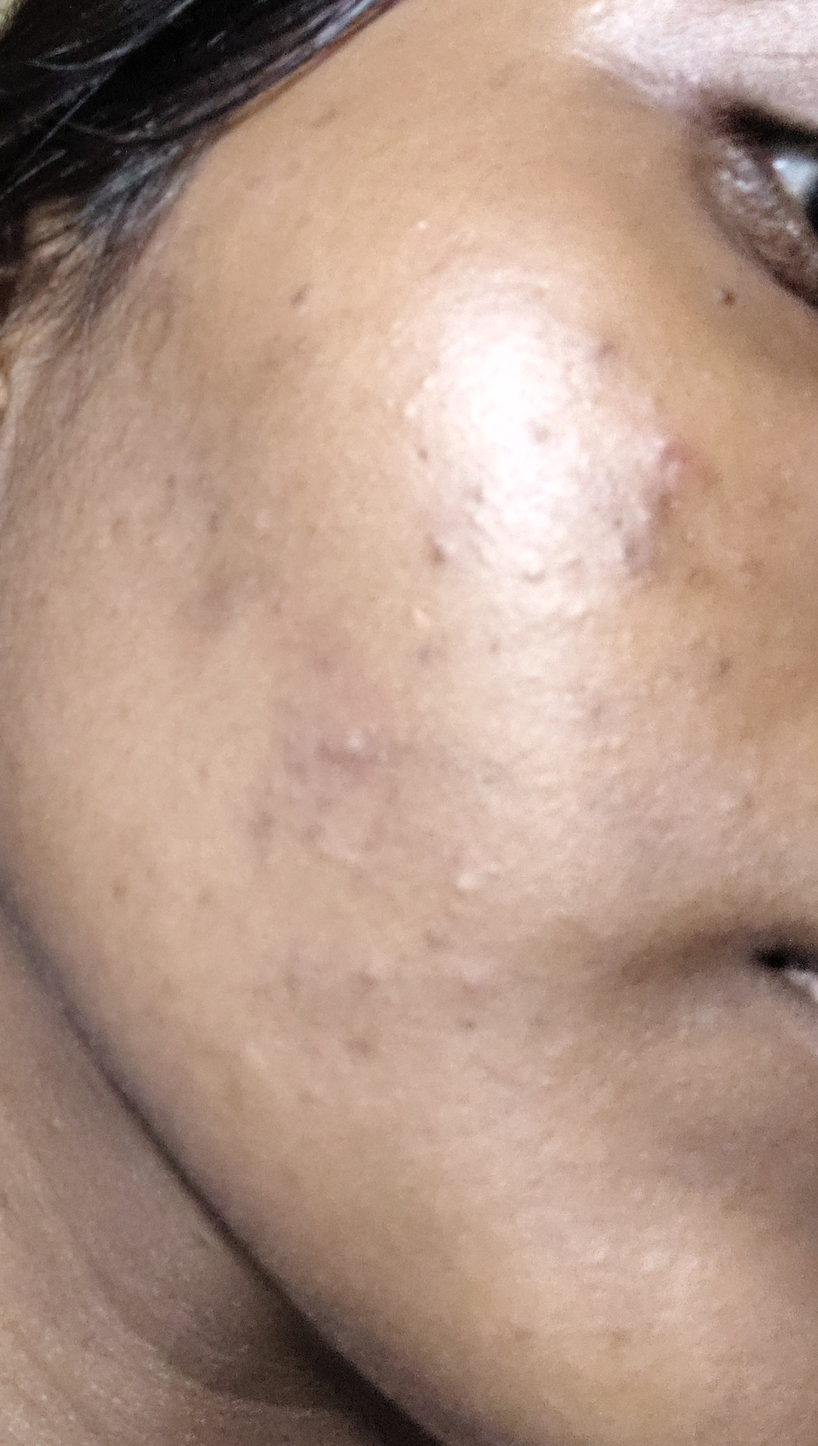papule: (433, 849, 521, 923), (316, 720, 402, 790), (626, 444, 662, 570), (414, 522, 474, 584)
